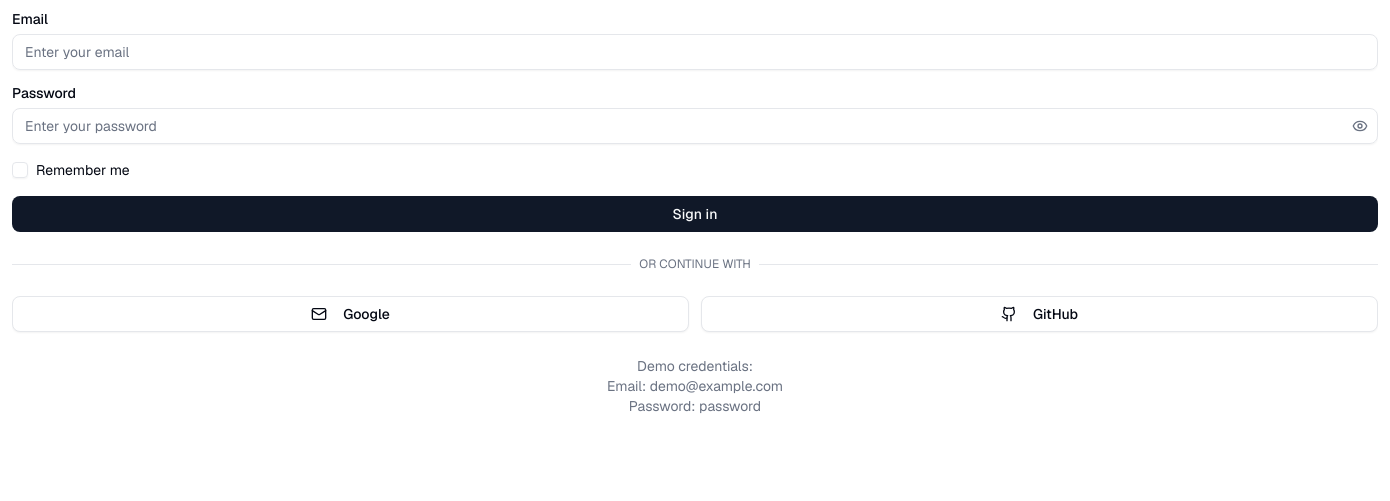
Scenario: SignInForm › shows API errors
In the field with placeholder "Enter your email": (695, 52) [12, 34, 1378, 70], type "test@example.com"
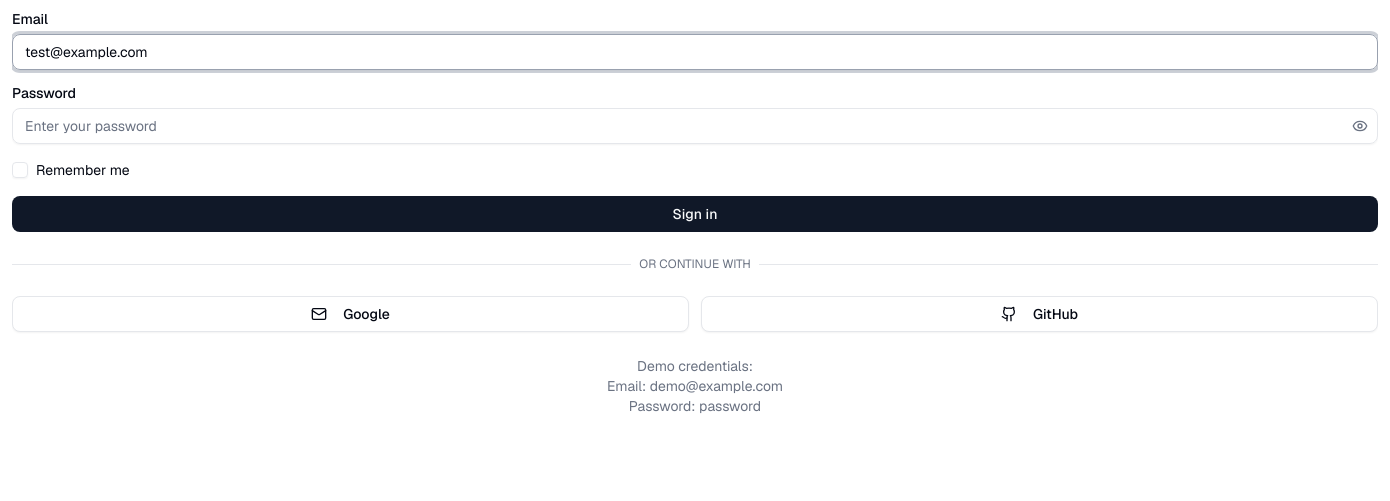
In the password field with placeholder "Enter your password": (695, 126) [12, 108, 1378, 144], type "wrongpass"
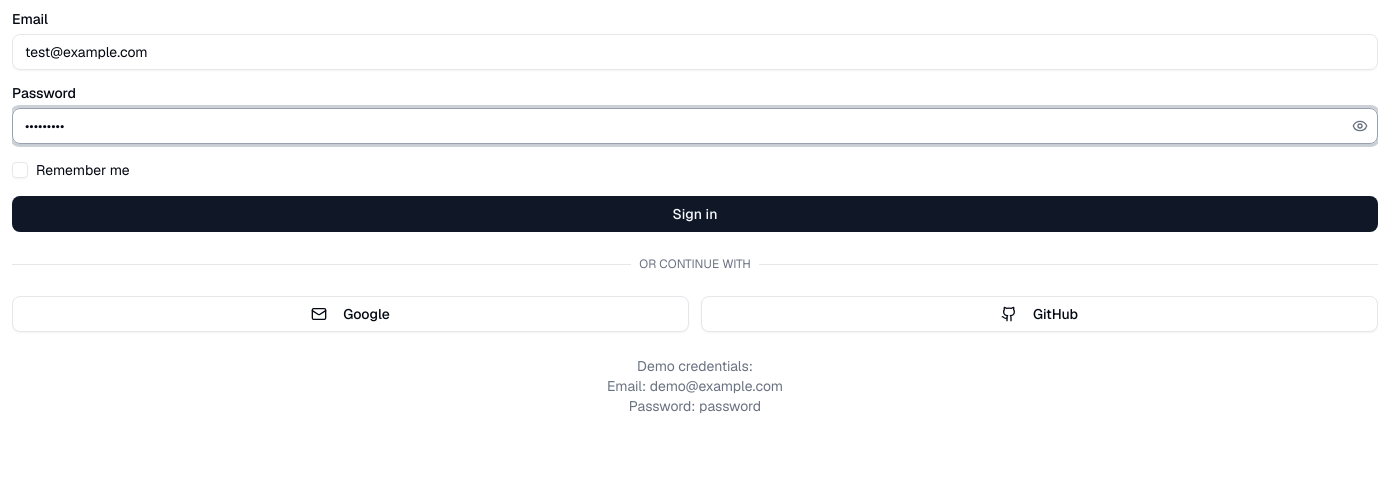
Click the button "Sign in": (695, 214) [12, 196, 1378, 232]
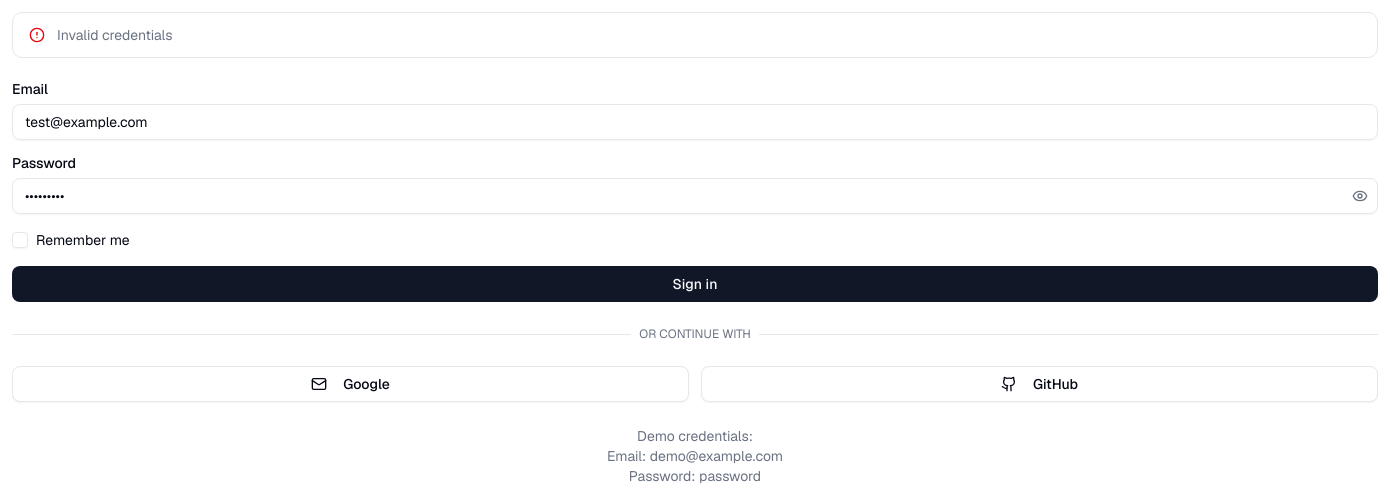
Check: the text "Invalid credentials" is shown, box [57, 26, 172, 44]
